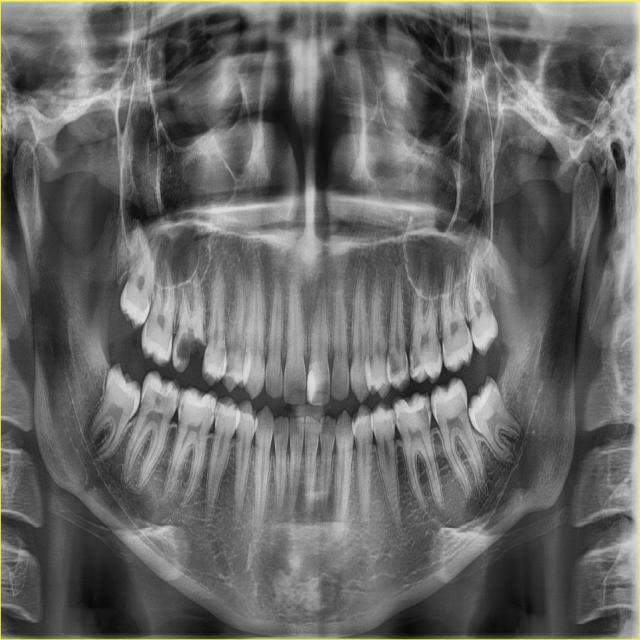Sterngold Implant: (166, 327, 206, 369), (146, 386, 174, 411), (384, 347, 402, 382), (409, 344, 422, 379), (419, 396, 431, 433), (169, 389, 181, 413), (400, 349, 409, 374), (394, 411, 405, 430), (178, 396, 187, 418), (226, 355, 236, 374), (430, 399, 440, 418), (204, 349, 210, 366), (390, 414, 396, 431), (215, 408, 219, 425), (210, 407, 215, 420), (222, 414, 227, 424)
Straumann Implant: (306, 360, 321, 403)
